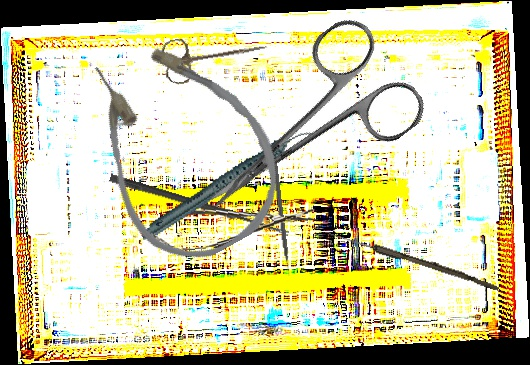Cannula: (56, 10, 307, 283)
Handpiece: (126, 127, 329, 241)
Hook Surgical: (268, 145, 292, 277)
Iris Scissors: (171, 8, 433, 252), (159, 22, 272, 87)
Micro Scissor: (148, 199, 320, 254)
Surgical Spoon: (108, 173, 291, 238), (327, 230, 501, 291)
